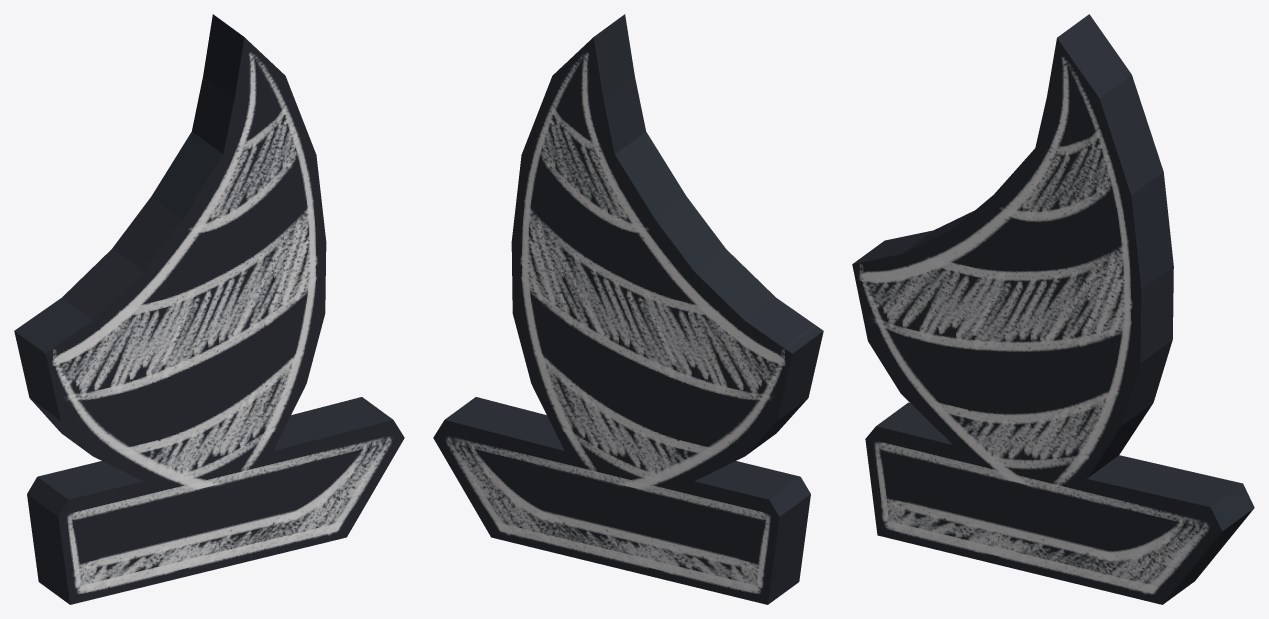
File: Sailboat.fbx
3 views of the same model, side by side, from view 1: azimuth 30°, elevation 25°; view 2: azimuth 150°, elevation 25°; view 3: azimuth 330°, elevation 25° (orthographic). The views are drawn at different scales.
Parts seen in each view (by area): view 1: m_Sailboat; view 2: m_Sailboat; view 3: m_Sailboat.
Part boxes in pixels (x1,y1,x2,y2): m_Sailboat: (14,14,404,604); m_Sailboat: (433,14,823,604); m_Sailboat: (852,14,1254,604).
Bounding box in the file's own units: 0.659 × 0.9214 × 0.1.
